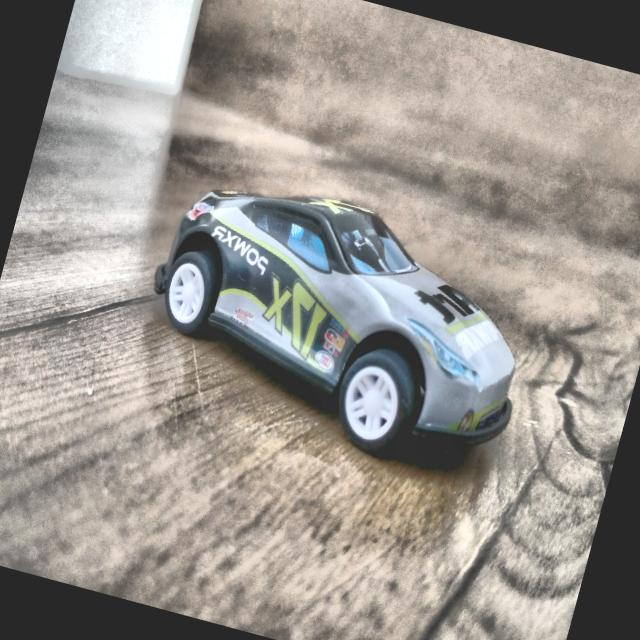Car: (125, 156, 547, 483)
